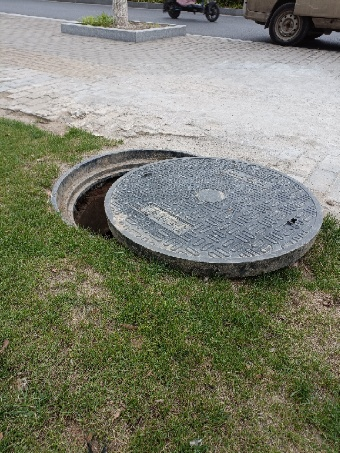uncovered: (49, 147, 321, 280)
